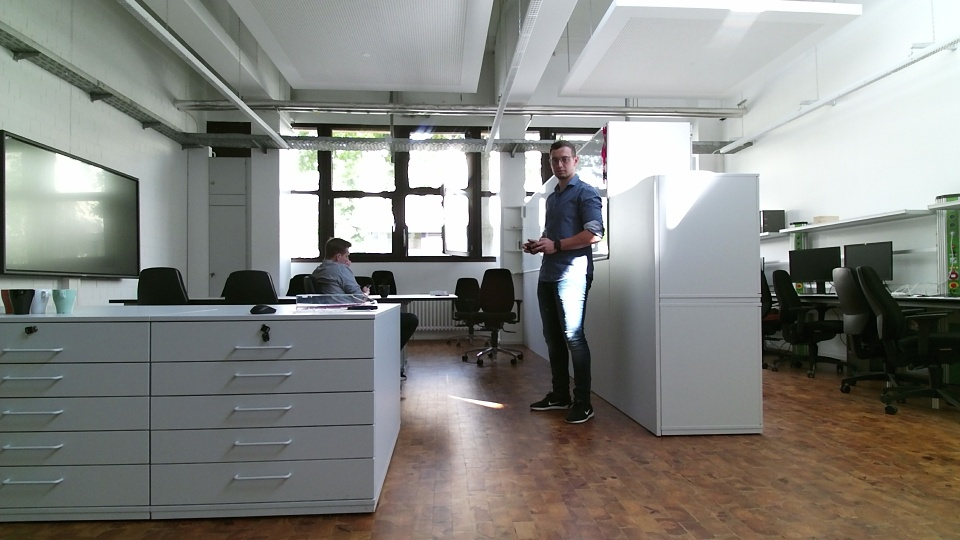Person: (522, 140, 604, 428), (302, 236, 412, 385)
